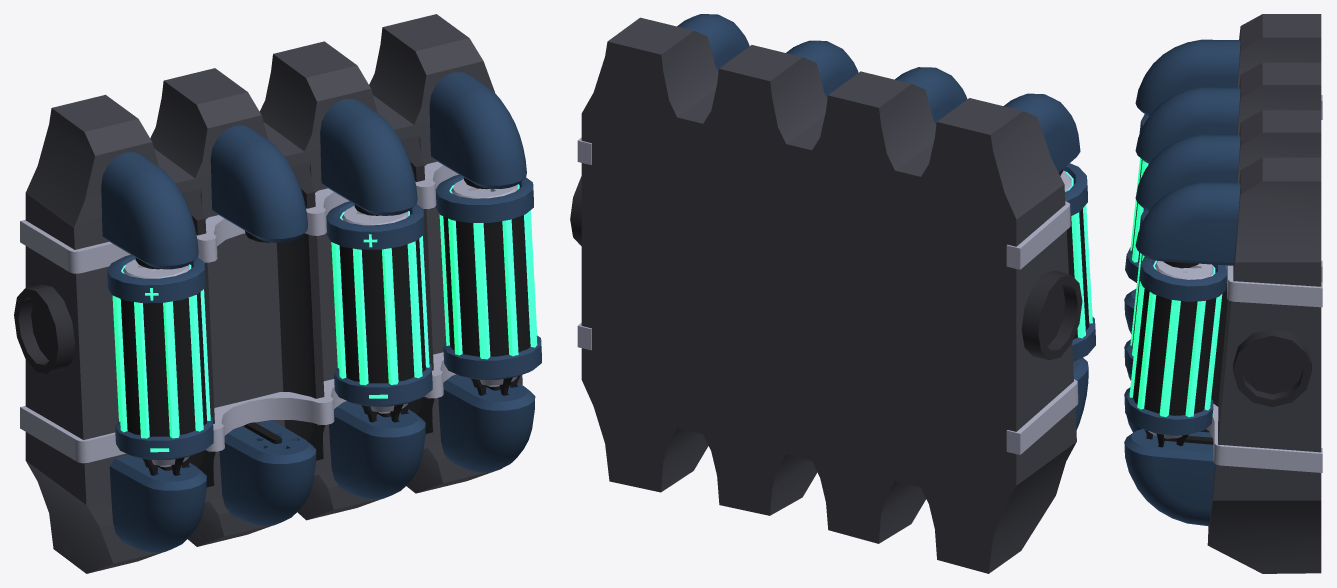
File: Misc_BatteryCharger_X4_C.fbx
3 renders of one model, left to right at view 1: azimuth 30°, elevation 25°; view 2: azimuth 150°, elevation 25°; view 3: azimuth 270°, elevation 25°, orthographic. The views are drawn at different scales.
Parts seen in each view (by area): view 1: Misc_BatteryCharger_X4_C.001; view 2: Misc_BatteryCharger_X4_C.001; view 3: Misc_BatteryCharger_X4_C.001.
Part boxes in pixels (x1,y1,x2,y2): Misc_BatteryCharger_X4_C.001: (14, 14, 541, 573); Misc_BatteryCharger_X4_C.001: (570, 14, 1095, 573); Misc_BatteryCharger_X4_C.001: (1124, 14, 1322, 573).
Size of the model in its own units: 0.344 by 0.3091 by 0.141.
